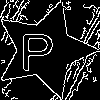P: (19, 25, 55, 71)
